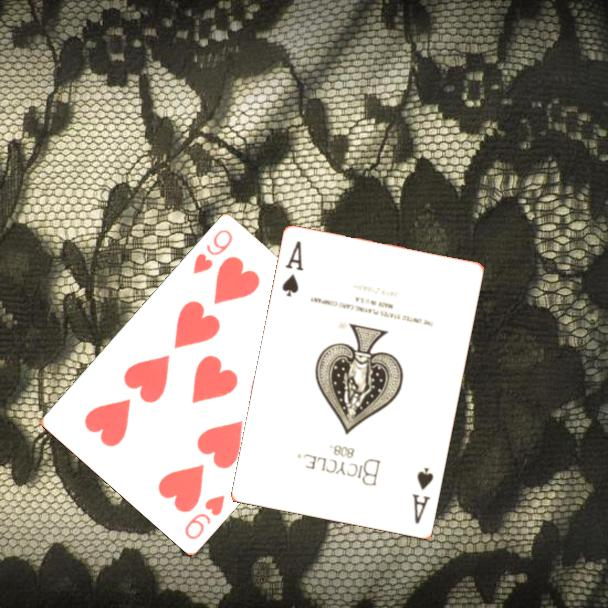h09: (189, 225, 236, 277), (181, 491, 228, 542)
s01: (409, 464, 437, 527), (279, 237, 307, 300)
